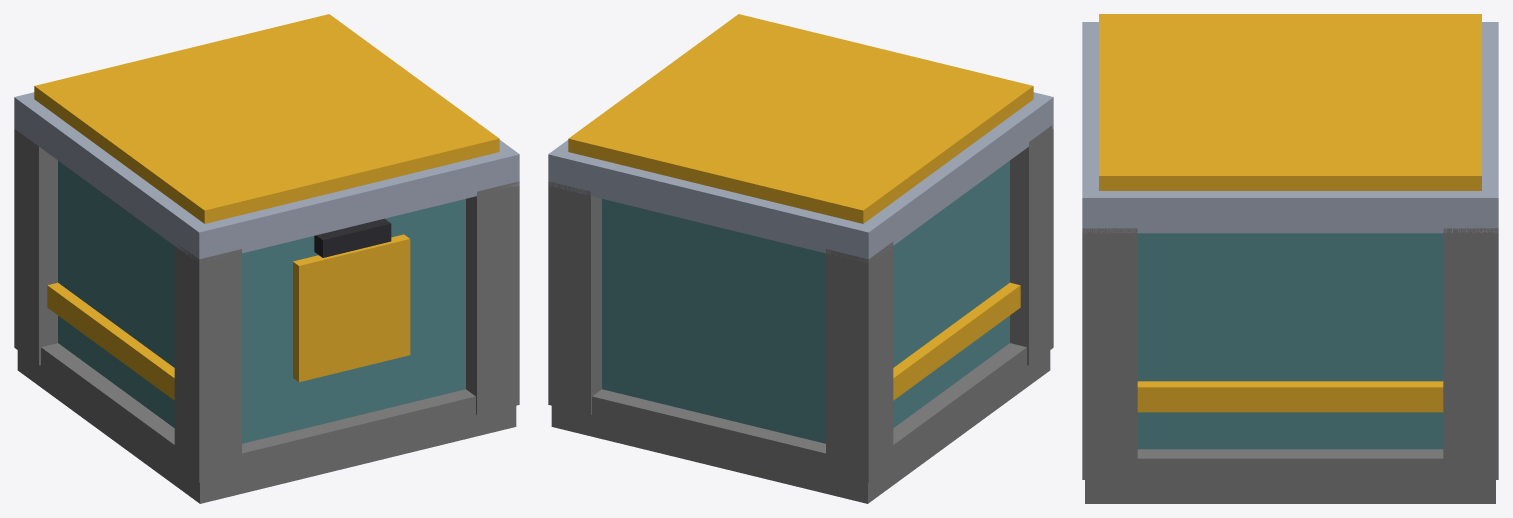
Rendered from gamble_box.glb.
3 views of the same model, side by side, from view 1: azimuth 30°, elevation 25°; view 2: azimuth 150°, elevation 25°; view 3: azimuth 270°, elevation 25° (orthographic). The views are drawn at different scales.
Visible parts, largest first — view 1: gamble_box; view 2: gamble_box; view 3: gamble_box.
Part boxes in pixels (left/top/right/bottom): gamble_box: left=14, top=14, right=519, bottom=503; gamble_box: left=548, top=14, right=1053, bottom=503; gamble_box: left=1082, top=14, right=1498, bottom=503.
Size of the model in its own units: 0.75 by 0.64 by 0.75.
